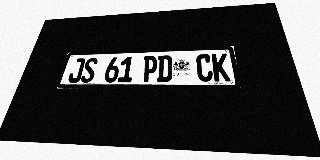1: (117, 56, 134, 82)
6: (103, 57, 121, 83)
C: (196, 54, 213, 82)
D: (157, 55, 172, 82)
J: (67, 58, 86, 83)
K: (211, 53, 231, 81)
P: (142, 56, 158, 82)
S: (80, 58, 98, 83)
